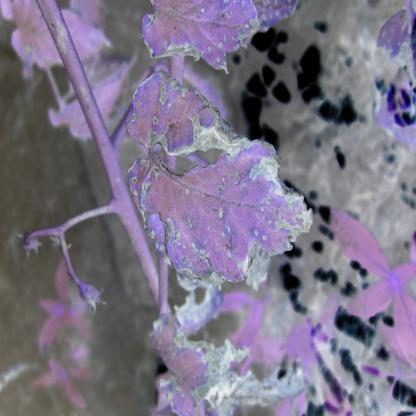tomato leaf bacterial spot: (111, 71, 309, 299)
